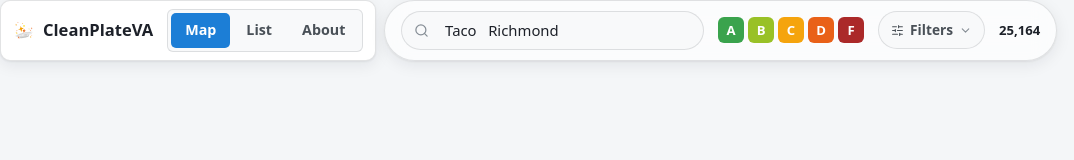
Test: search debounces 150 ms into the canonical form; clearing is immediate
Replace the text in the search field named "Search name, address, city, or ZIP" with "  Taco   Richmond ": (564, 30) x1=437 y1=20 x2=691 y2=41
Wait 150 ms
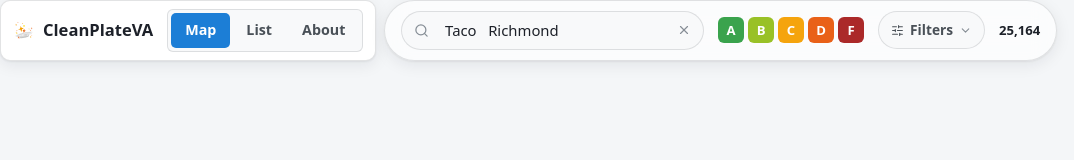
Click the button named "Clear search": (684, 30) x1=677 y1=23 x2=691 y2=37
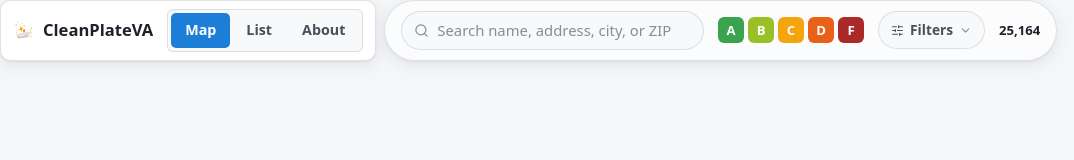
Expected: the search field with placeholder "Search name, address, city, or ZIP" is empty, x1=437 y1=20 x2=691 y2=41
